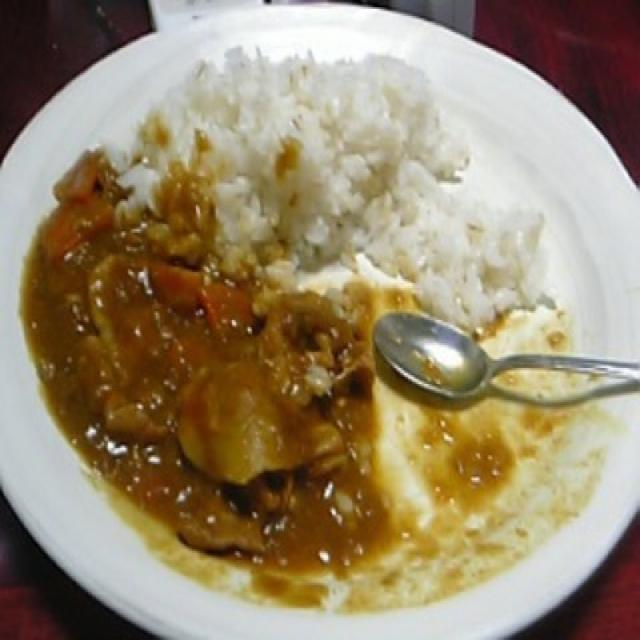Beef Curry: (38, 228, 346, 507)
Rice: (156, 42, 538, 317)
